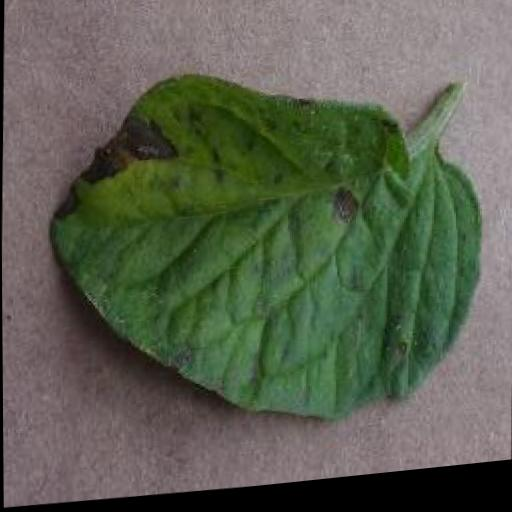Early Blight: (38, 43, 488, 453)
